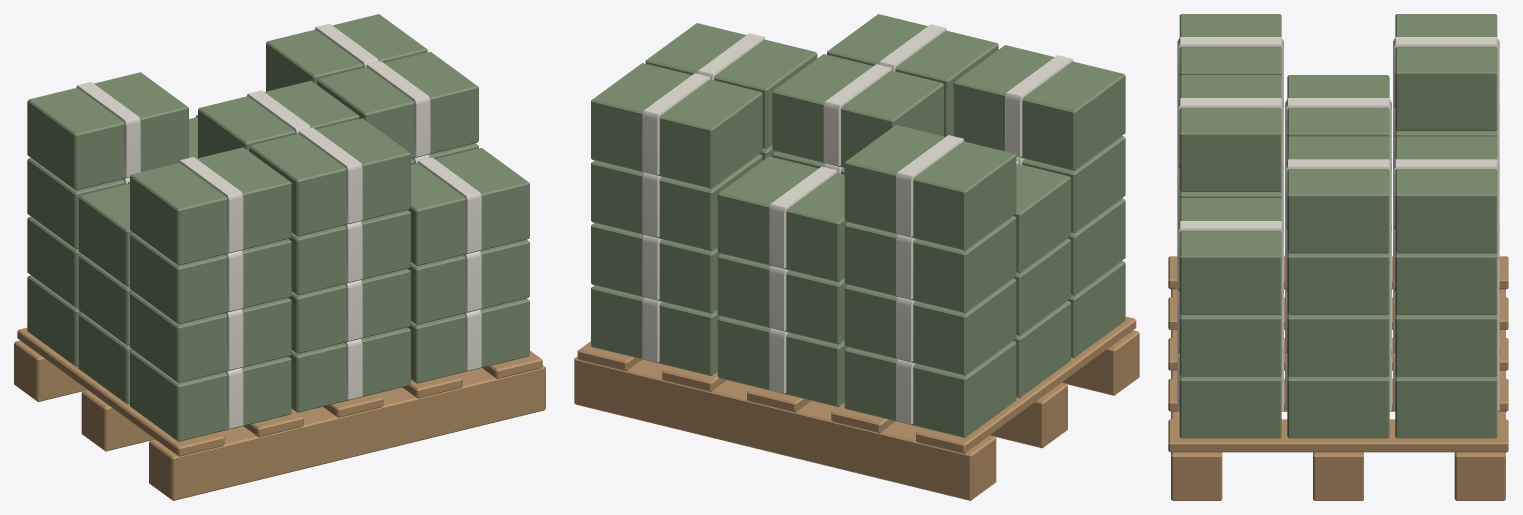
Rendered from prop_of_cash_skid.glb.
The picture shows the model from 3 angles, left to right: view 1: azimuth 30°, elevation 25°; view 2: azimuth 150°, elevation 25°; view 3: azimuth 270°, elevation 25°; orthographic projection. The views are drawn at different scales.
Visible parts, largest first — view 1: CashSkid; view 2: CashSkid; view 3: CashSkid.
Boxes of the visible parts, x1,y1,x2,y2 form: CashSkid: [14, 14, 545, 500]; CashSkid: [574, 14, 1139, 500]; CashSkid: [1168, 14, 1508, 500].
Size of what is drawn, in the model's own units: 0.8 by 0.59 by 0.6.
